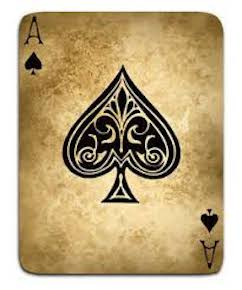AceOfSpades: (17, 7, 225, 280)
